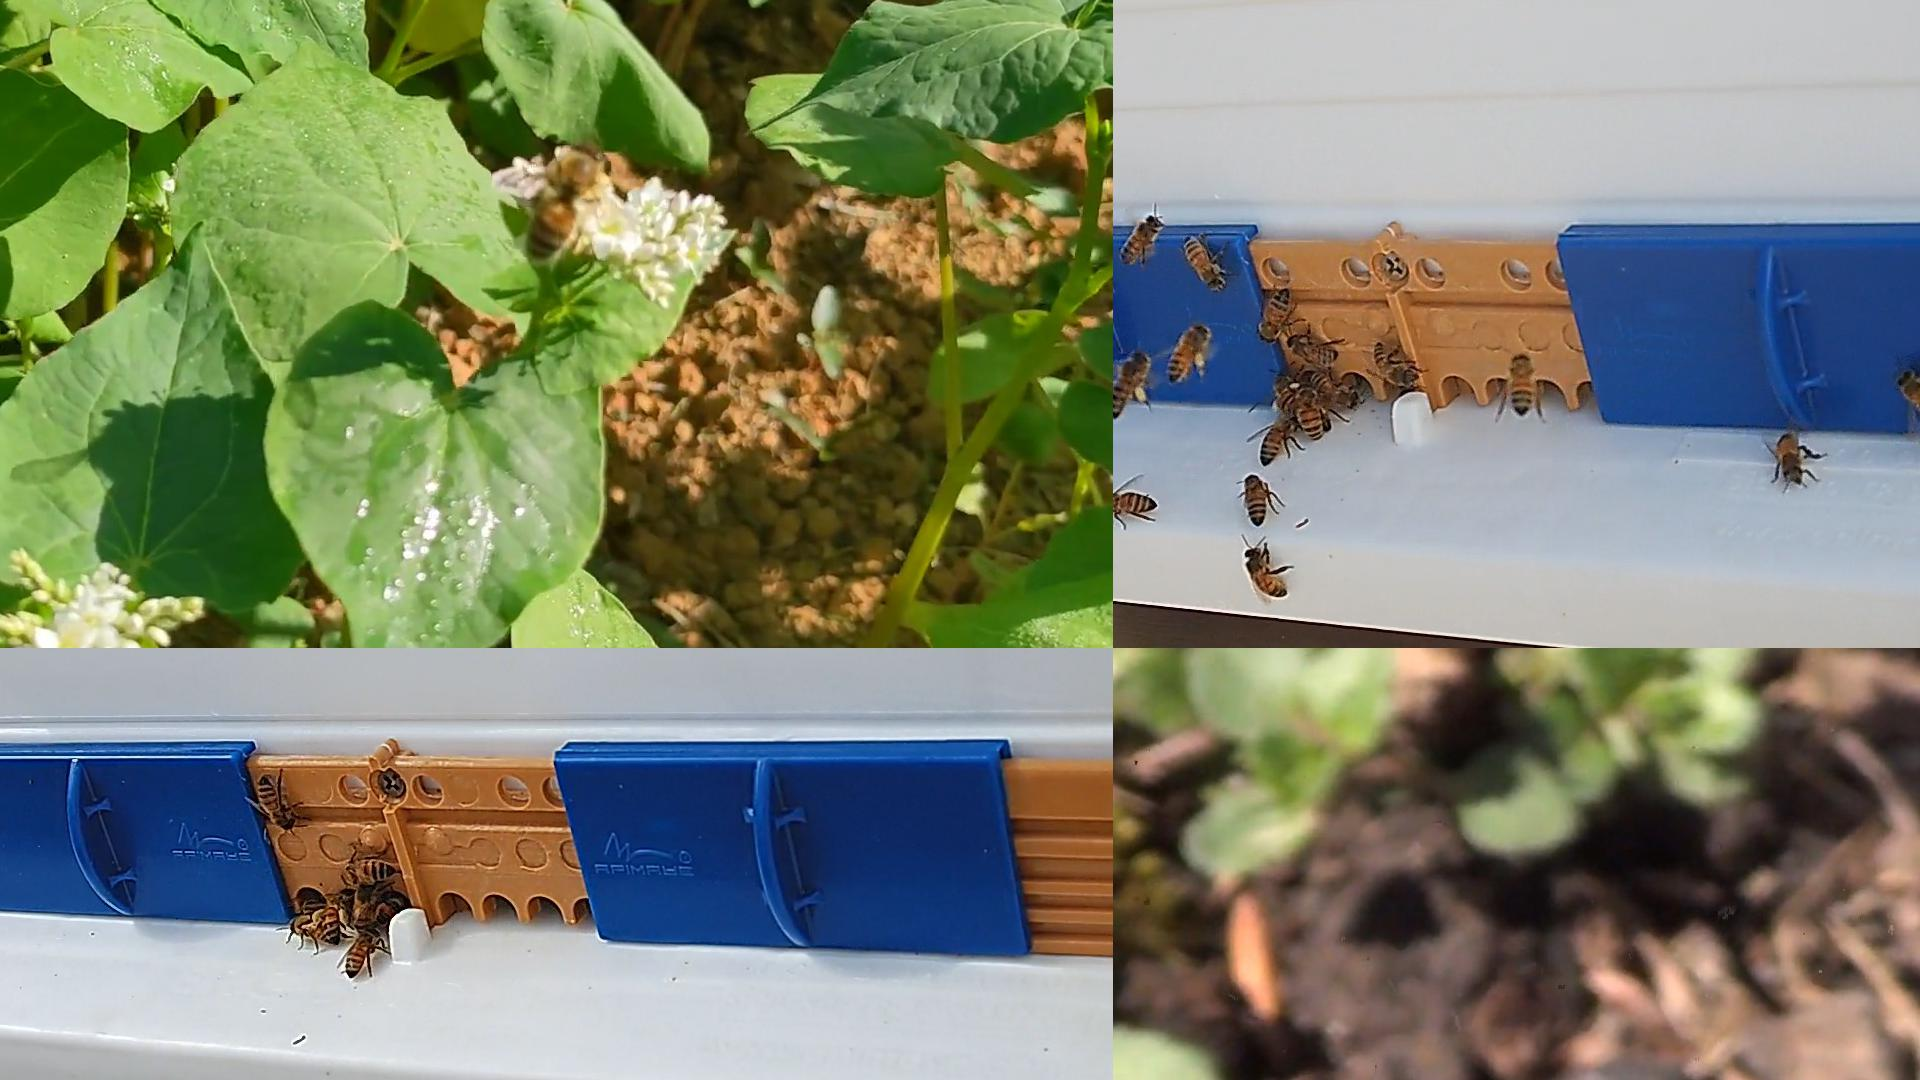bee: (1183, 236, 1225, 289), (1244, 547, 1284, 599), (1254, 286, 1291, 342), (1261, 413, 1299, 465), (261, 777, 297, 831), (1506, 356, 1538, 417), (1374, 342, 1418, 385), (1311, 371, 1360, 409), (1286, 331, 1340, 365), (1121, 216, 1162, 261), (359, 894, 407, 930), (345, 930, 381, 977), (1776, 434, 1807, 483), (290, 914, 332, 948), (1244, 475, 1273, 524), (1898, 369, 1919, 429), (1299, 386, 1321, 440), (343, 861, 396, 882), (1113, 493, 1156, 516), (323, 902, 340, 945), (299, 885, 323, 914)
pollenbee: (1167, 326, 1209, 384), (1113, 353, 1150, 419), (1271, 375, 1304, 418)
